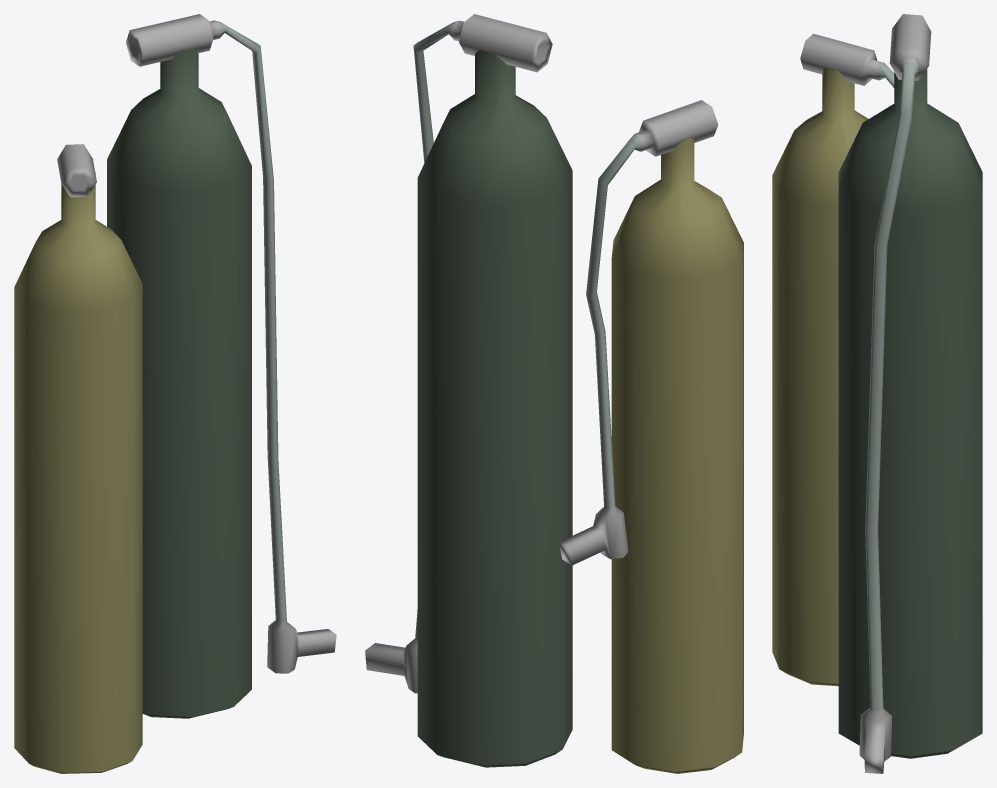
The model's file is GasTanks.fbx.
3 views of the same model, side by side, from view 1: azimuth 30°, elevation 25°; view 2: azimuth 150°, elevation 25°; view 3: azimuth 270°, elevation 25° (orthographic). The views are drawn at different scales.
Visible parts, largest first — view 1: GasHose3, GasTank3; view 2: GasHose3, GasTank3; view 3: GasHose3, GasTank3.
Part boxes in pixels (bbox=[...]): GasHose3: bbox=[107, 14, 336, 718]; GasTank3: bbox=[14, 144, 142, 773]; GasHose3: bbox=[365, 14, 572, 767]; GasTank3: bbox=[558, 100, 743, 773]; GasHose3: bbox=[838, 14, 982, 773]; GasTank3: bbox=[772, 33, 894, 686].
Bounding box in the file's own units: 5.81 × 11.47 × 3.13.
